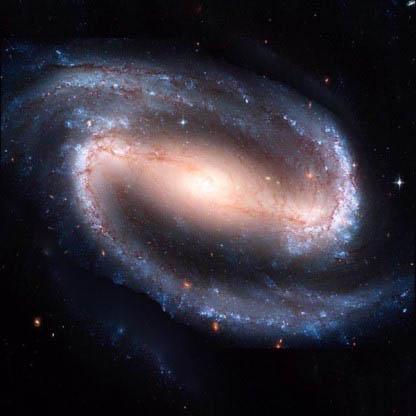NGC 1300: (14, 49, 405, 335)
